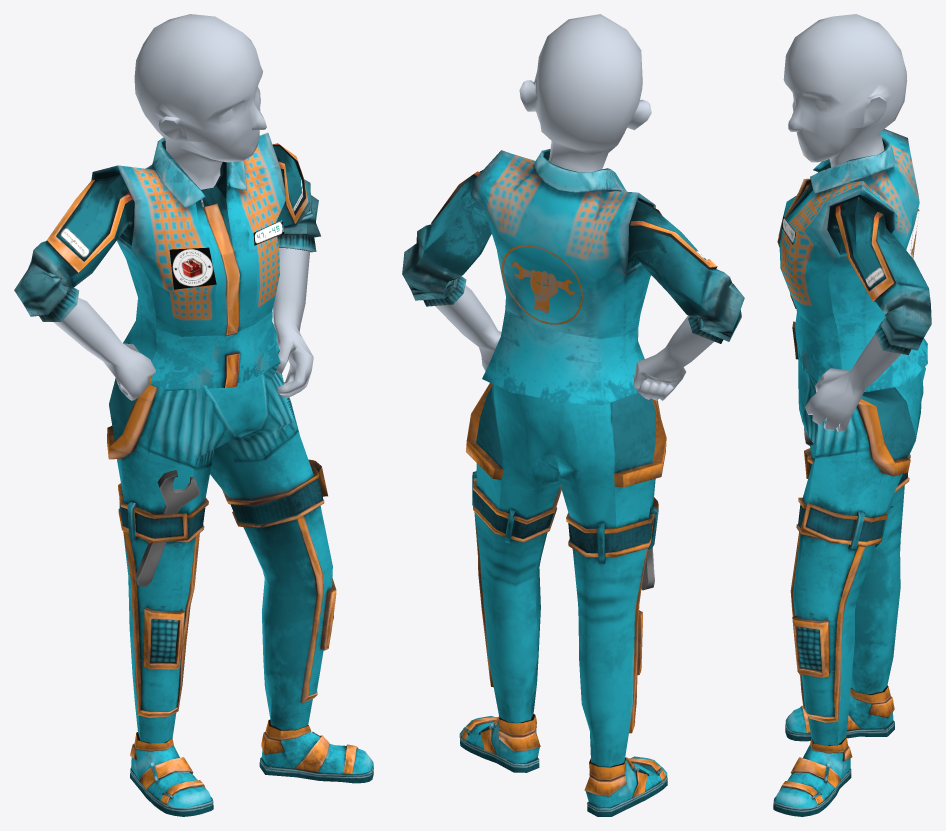
File: F_mechanic_pose.gltf
3 views of the same model, side by side, from view 1: azimuth 30°, elevation 25°; view 2: azimuth 150°, elevation 25°; view 3: azimuth 270°, elevation 25° (orthographic). The views are drawn at different scales.
Visible parts, largest first — view 1: F_mechanic_upper, F_mechanic_lower, F_mechanic_head, F_mechanic_feet; view 2: F_mechanic_upper, F_mechanic_lower, F_mechanic_head, F_mechanic_feet; view 3: F_mechanic_lower, F_mechanic_upper, F_mechanic_head, F_mechanic_feet.
Part boxes in pixels (x1=…): F_mechanic_upper: x1=14, y1=132, x2=320, y2=400; F_mechanic_lower: x1=107, y1=350, x2=336, y2=742; F_mechanic_head: x1=134, y1=14, x2=266, y2=189; F_mechanic_feet: x1=130, y1=719, x2=373, y2=816; F_mechanic_upper: x1=402, y1=149, x2=744, y2=405; F_mechanic_lower: x1=466, y1=383, x2=666, y2=766; F_mechanic_head: x1=519, y1=14, x2=651, y2=172; F_mechanic_feet: x1=459, y1=714, x2=667, y2=816; F_mechanic_lower: x1=790, y1=358, x2=925, y2=745; F_mechanic_upper: x1=777, y1=129, x2=931, y2=432; F_mechanic_head: x1=783, y1=14, x2=907, y2=167; F_mechanic_feet: x1=773, y1=685, x2=894, y2=816.
Bounding box in the file's own units: 1.57 × 3.64 × 0.7176.
Materials: 3 (2 with a texture image).
